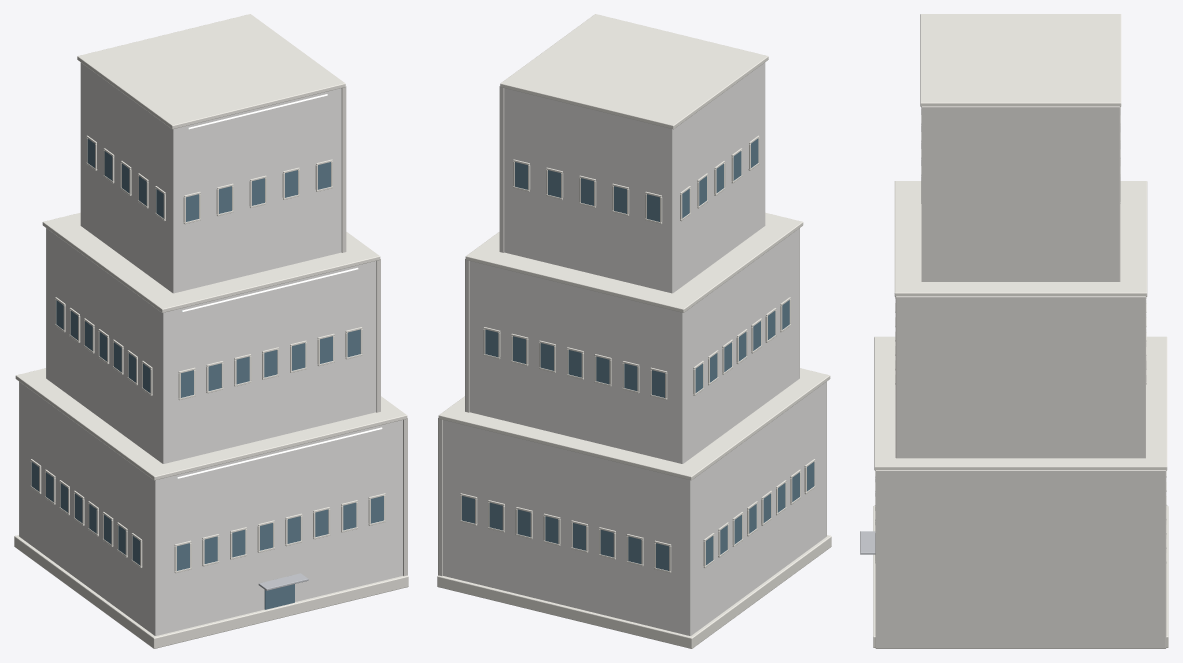
The model's file is bldg_white_landmark.glb.
The picture shows the model from 3 angles, left to right: view 1: azimuth 30°, elevation 25°; view 2: azimuth 150°, elevation 25°; view 3: azimuth 270°, elevation 25°; orthographic projection. The views are drawn at different scales.
Parts seen in each view (by area): view 1: bldg_white_landmark_band_0_wall, bldg_white_landmark_band_1_wall, bldg_white_landmark_band_2_wall, bldg_white_landmark_band_2_cornice, bldg_white_landmark_band_1_cornice, bldg_white_landmark_band_0_cornice, bldg_white_landmark_plinth, bldg_white_landmark_band_2_pilaster, bldg_white_landmark_band_0_pilaster, bldg_white_landmark_band_1_pilaster, bldg_white_landmark_entrance; view 2: bldg_white_landmark_band_0_wall, bldg_white_landmark_band_1_wall, bldg_white_landmark_band_2_wall, bldg_white_landmark_band_2_cornice, bldg_white_landmark_band_1_cornice, bldg_white_landmark_band_0_cornice, bldg_white_landmark_plinth, bldg_white_landmark_band_2_pilaster, bldg_white_landmark_band_0_pilaster, bldg_white_landmark_band_1_pilaster; view 3: bldg_white_landmark_band_0_pilaster, bldg_white_landmark_band_1_pilaster, bldg_white_landmark_band_2_pilaster, bldg_white_landmark_band_2_cornice, bldg_white_landmark_band_1_cornice, bldg_white_landmark_band_0_cornice, bldg_white_landmark_plinth.
Boxes of the visible parts, <box> form: bldg_white_landmark_band_0_wall: <box>19,381,402,635</box>; bldg_white_landmark_band_1_wall: <box>46,228,376,463</box>; bldg_white_landmark_band_2_wall: <box>80,62,341,293</box>; bldg_white_landmark_band_2_cornice: <box>77,14,345,129</box>; bldg_white_landmark_band_1_cornice: <box>42,212,380,312</box>; bldg_white_landmark_band_0_cornice: <box>15,368,407,480</box>; bldg_white_landmark_plinth: <box>14,535,408,648</box>; bldg_white_landmark_band_2_pilaster: <box>341,86,346,252</box>; bldg_white_landmark_band_0_pilaster: <box>403,418,407,575</box>; bldg_white_landmark_band_1_pilaster: <box>376,259,380,412</box>; bldg_white_landmark_entrance: <box>264,584,294,609</box>; bldg_white_landmark_band_0_wall: <box>443,381,826,635</box>; bldg_white_landmark_band_1_wall: <box>469,228,799,463</box>; bldg_white_landmark_band_2_wall: <box>504,62,765,293</box>; bldg_white_landmark_band_2_cornice: <box>500,14,768,129</box>; bldg_white_landmark_band_1_cornice: <box>465,212,803,312</box>; bldg_white_landmark_band_0_cornice: <box>438,368,830,480</box>; bldg_white_landmark_plinth: <box>437,535,831,648</box>; bldg_white_landmark_band_2_pilaster: <box>499,86,504,252</box>; bldg_white_landmark_band_0_pilaster: <box>438,418,442,575</box>; bldg_white_landmark_band_1_pilaster: <box>465,259,469,412</box>; bldg_white_landmark_band_0_pilaster: <box>875,470,1166,648</box>; bldg_white_landmark_band_1_pilaster: <box>895,296,1145,458</box>; bldg_white_landmark_band_2_pilaster: <box>921,106,1120,281</box>; bldg_white_landmark_band_2_cornice: <box>920,14,1121,106</box>; bldg_white_landmark_band_1_cornice: <box>894,181,1147,296</box>; bldg_white_landmark_band_0_cornice: <box>874,336,1167,470</box>; bldg_white_landmark_plinth: <box>873,505,1168,647</box>.
Bounding box in the file's own units: 20.51 × 38.25 × 20.35.
